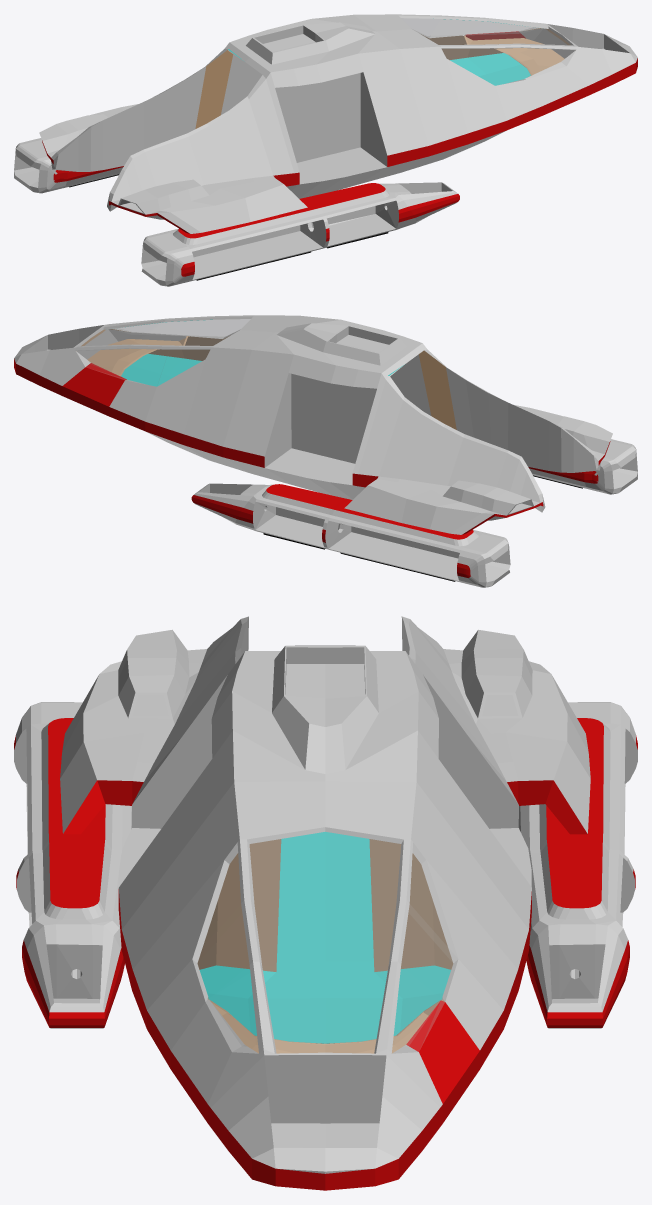
Rendered from Voyager Shuttle Body Segmented.fbx.
3 views of the same model, one above another, from view 1: azimuth 30°, elevation 25°; view 2: azimuth 150°, elevation 25°; view 3: azimuth 270°, elevation 25° (orthographic). The views are drawn at different scales.
Visible parts, largest first — view 1: Shuttle SB Bulkhead-Wing Attach, Shuttle SB Rear Wall, Shuttle Pt Bulkhead-Wing Attach, Shuttle SB Outer Cabinet Wall, Shuttle SB Wing, Shuttle SB Cabin Wall, Shuttle Ceiling, Shuttle Stbd Nacelle Ceiling, Shuttle SB Nacelle Floor, Shuttle Front Window, Shuttle SB Window, Shuttle SB Nacelle Exhaust (+25 smaller); view 2: Shuttle Pt Bulkhead-Wing Attach, Shuttle Pt Aft Wall, Shuttle SB Bulkhead-Wing Attach, Shuttle Pt Outer Cabinet Wall, Shuttle Pt Wing, Shuttle Pt Cabin Wall, Shuttle Ceiling, Shuttle Pt Nacelle Ceiling, Shuttle Pt Nacelle Floor, Shuttle Front Window, Shuttle Pt Window, Shuttle Pt Nacelle Exhaust (+25 smaller); view 3: Shuttle Front Window, Shuttle Ceiling, Shuttle Aft Floor, Shuttle SB Wing, Shuttle Pt Wing, Shuttle Pt Nacelle Ceiling, Shuttle Stbd Nacelle Ceiling, Shuttle SB Cabin Wall, Shuttle Pt Cabin Wall, Shuttle SB Rear Wall, Shuttle Pt Aft Wall, Shuttle Cabin Fore Bulkhead (+33 smaller).
Part boxes in pixels (x1,y1,x2,y2): Shuttle SB Bulkhead-Wing Attach: (107,73,299,211); Shuttle SB Rear Wall: (358,46,468,166); Shuttle Pt Bulkhead-Wing Attach: (47,48,233,171); Shuttle SB Outer Cabinet Wall: (270,54,363,162); Shuttle SB Wing: (111,175,307,233); Shuttle SB Cabin Wall: (446,59,589,144); Shuttle Ceiling: (225,14,440,78); Shuttle Stbd Nacelle Ceiling: (167,183,397,251); Shuttle SB Nacelle Floor: (191,214,395,281); Shuttle Front Window: (399,16,572,44); Shuttle SB Window: (442,47,575,85); Shuttle SB Nacelle Exhaust: (141,231,194,286); Shuttle Pt Bulkhead-Wing Attach: (352,373,545,512); Shuttle Pt Aft Wall: (183,347,293,467); Shuttle SB Bulkhead-Wing Attach: (419,349,601,472); Shuttle Pt Outer Cabinet Wall: (289,354,381,463); Shuttle Pt Wing: (344,476,534,534); Shuttle Pt Cabin Wall: (62,359,205,444); Shuttle Ceiling: (212,315,427,379); Shuttle Pt Nacelle Ceiling: (253,484,484,552); Shuttle Pt Nacelle Floor: (255,515,460,582); Shuttle Front Window: (79,317,251,345); Shuttle Pt Window: (76,348,209,386); Shuttle Pt Nacelle Exhaust: (457,532,510,587); Shuttle Front Window: (247,827,403,1053); Shuttle Ceiling: (232,651,418,843); Shuttle Aft Floor: (199,832,450,998); Shuttle SB Wing: (60,629,206,834); Shuttle Pt Wing: (461,629,590,834); Shuttle Pt Nacelle Ceiling: (529,718,625,925); Shuttle Stbd Nacelle Ceiling: (26,718,122,925); Shuttle SB Cabin Wall: (132,842,244,1123); Shuttle Pt Cabin Wall: (406,842,518,1122); Shuttle SB Rear Wall: (118,731,239,989); Shuttle Pt Aft Wall: (411,731,531,989); Shuttle Cabin Fore Bulkhead: (208,1045,442,1126).
Size of the model in its own units: 984 by 256 by 497.
